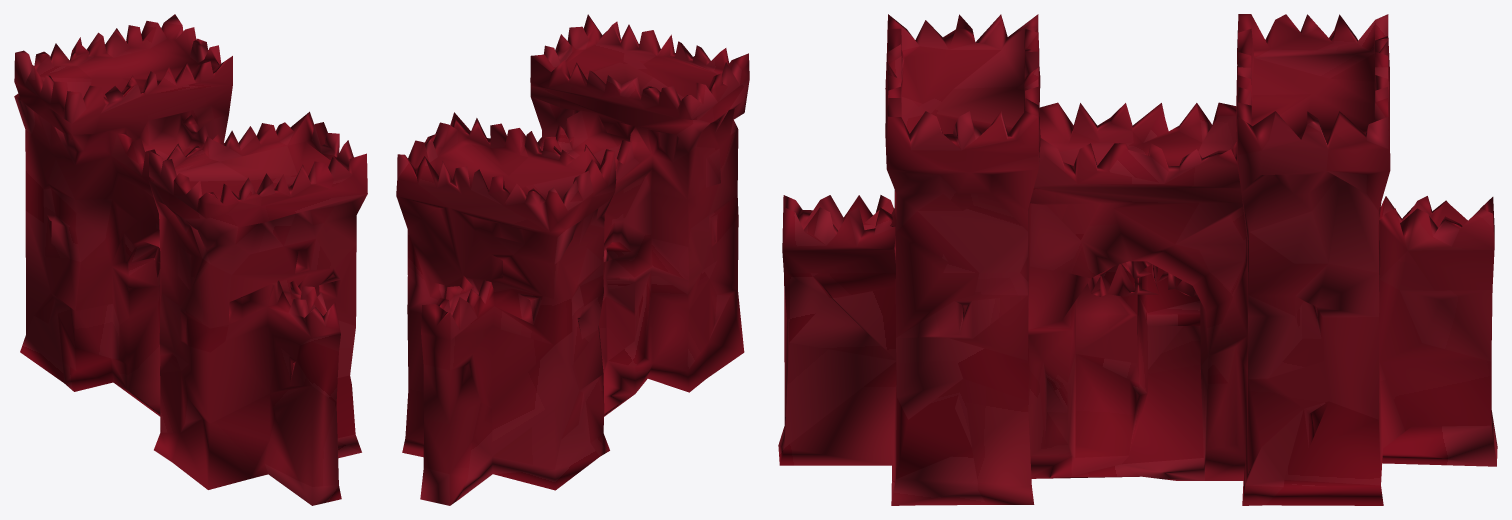
File: castle_gate_diamond_red_lo.glb
The picture shows the model from 3 angles, left to right: view 1: azimuth 30°, elevation 25°; view 2: azimuth 150°, elevation 25°; view 3: azimuth 270°, elevation 25°; orthographic projection. The views are drawn at different scales.
Parts seen in each view (by area): view 1: tripo_node_94610d24-0749-49c4-806e-9f129a96dc65; view 2: tripo_node_94610d24-0749-49c4-806e-9f129a96dc65; view 3: tripo_node_94610d24-0749-49c4-806e-9f129a96dc65.
Part boxes in pixels (bbox=[...]): tripo_node_94610d24-0749-49c4-806e-9f129a96dc65: bbox=[14, 14, 367, 505]; tripo_node_94610d24-0749-49c4-806e-9f129a96dc65: bbox=[396, 14, 749, 505]; tripo_node_94610d24-0749-49c4-806e-9f129a96dc65: bbox=[778, 14, 1497, 505].
Size of the model in its own units: 0.339 by 0.5917 by 0.9847.
Materials: 1 (1 with a texture image).
